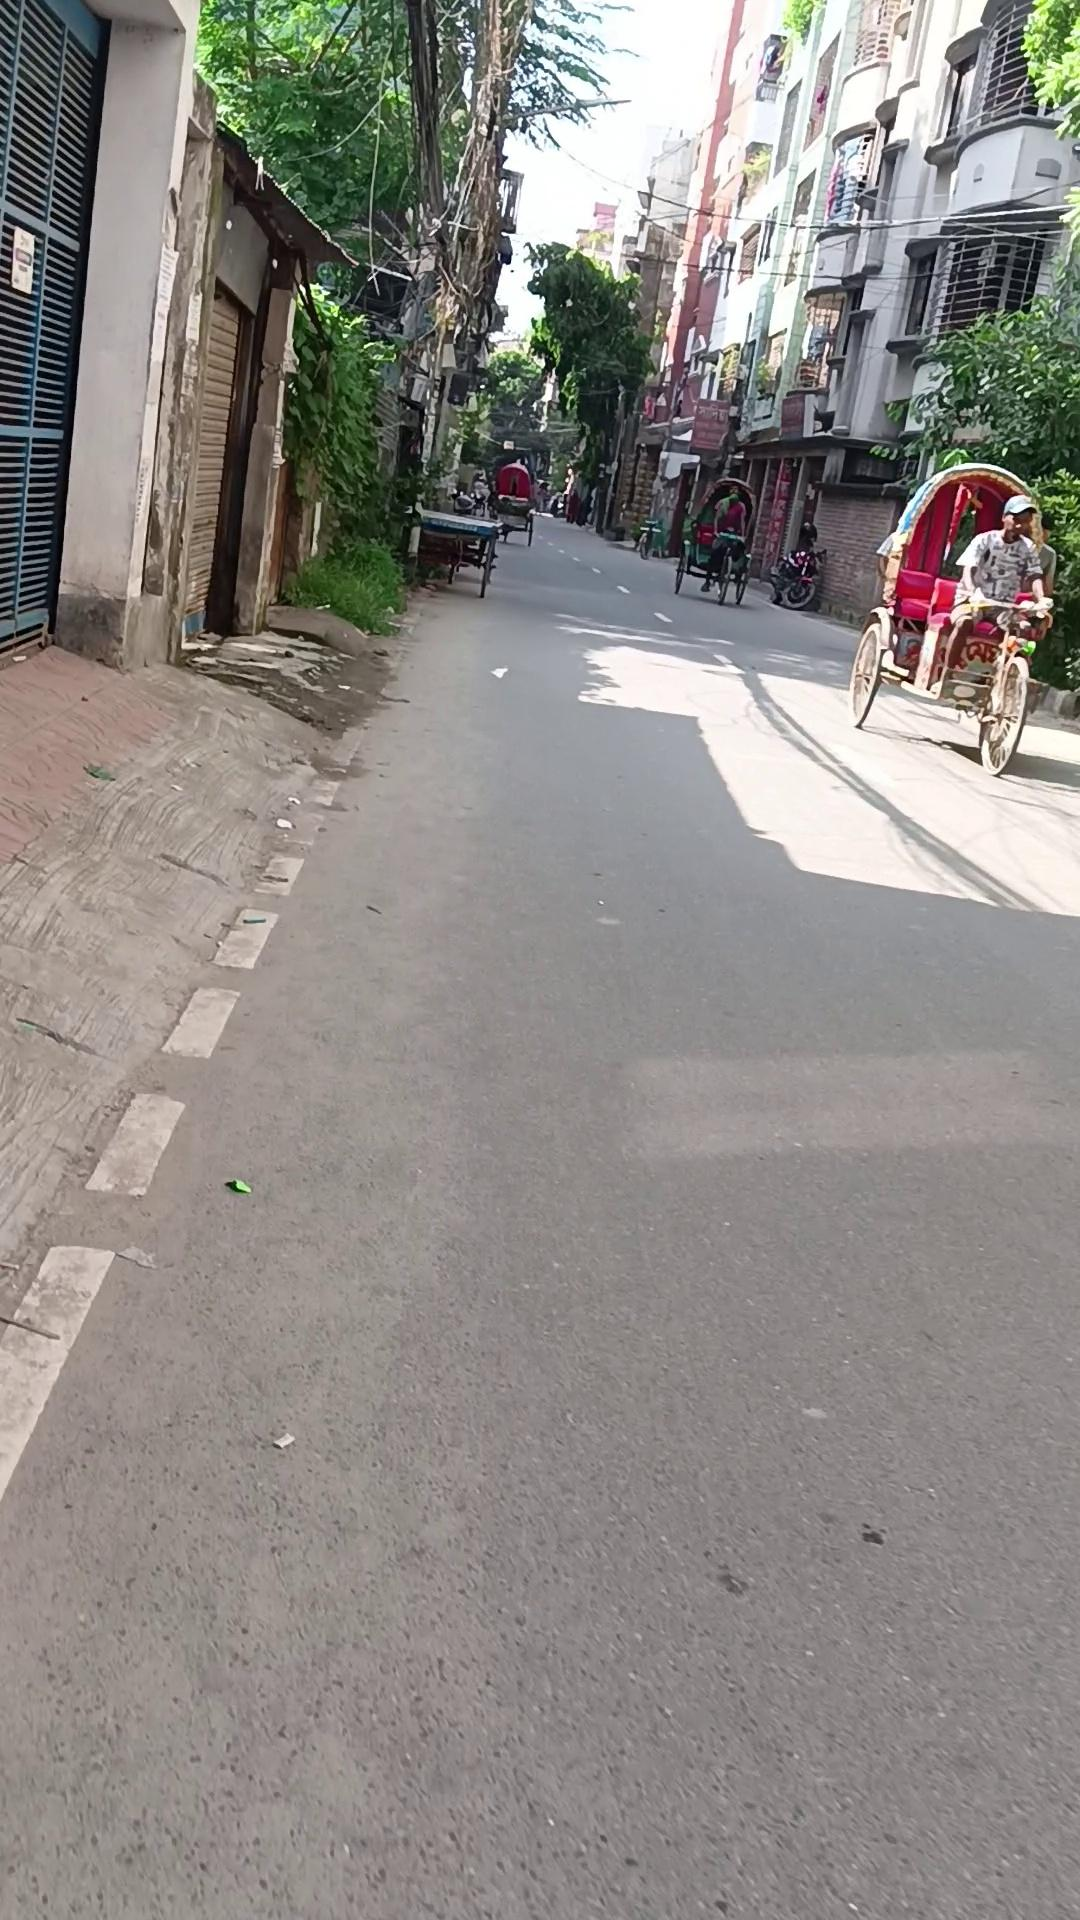Broken-road: (1, 574, 301, 1497)
Construction-barrier: (767, 521, 825, 611)
Curb: (938, 493, 1051, 687)
Fallen-tree: (738, 148, 771, 200), (750, 359, 777, 419)
Fence: (847, 462, 1056, 775), (673, 475, 756, 605)
Light-pole: (194, 0, 640, 583), (521, 239, 654, 527)
Obstacle: (50, 1, 202, 669)
